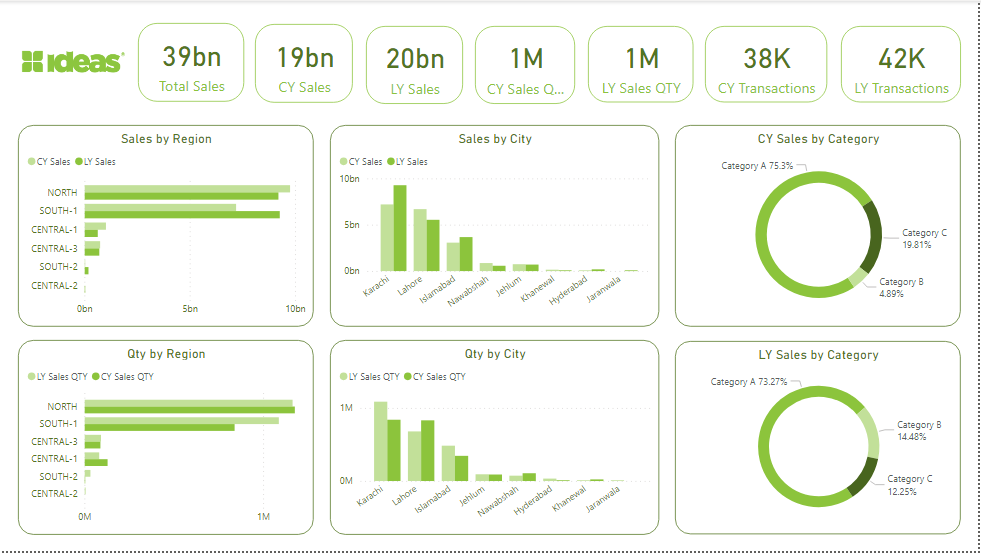

This screenshot's page, from the dashboard's own definition file:
{"tool":"powerbi","page":{"name":"Report_Page_1","canvas":[1280,720],"ordinal":0},"visuals":[{"type":"card","fields":{"Values":["Sales Data.CY Sales"]},"box":[334.5,30.3,128,103.2],"z":0},{"type":"card","fields":{"Values":["Sales Data.LY Sales"]},"box":[479,33,126.6,101.8],"z":1000},{"type":"clusteredBarChart","title":"Sales by Region","fields":{"Category":["Store.REGION"],"Y":["Sales Data.CY Sales","Sales Data.LY Sales"]},"box":[23.4,162.4,386.8,264.3],"z":2000},{"type":"card","fields":{"Values":["Sum(Sales Data.Sales Value CY)"]},"box":[180.3,28.9,139,103.2],"z":3000},{"type":"clusteredColumnChart","title":"Sales by City","fields":{"Category":["Store.CITY"],"Y":["Sales Data.CY Sales","Sales Data.LY Sales"]},"box":[432.2,162.4,430.8,264.3],"z":4000},{"type":"card","fields":{"Values":["Sales Data.CY Sales QTY"]},"box":[622.1,33,130.8,101.8],"z":5000},{"type":"card","fields":{"Values":["Sales Data.LY Sales QTY"]},"box":[769.4,33,137.6,100.5],"z":6000},{"type":"clusteredBarChart","title":"Qty by Region","fields":{"Category":["Store.REGION"],"Y":["Sales Data.LY Sales QTY","Sales Data.CY Sales QTY"]},"box":[23.4,443.2,386.8,254.6],"z":7000},{"type":"clusteredColumnChart","title":"Qty by City","fields":{"Category":["Store.CITY"],"Y":["Sales Data.LY Sales QTY","Sales Data.CY Sales QTY"]},"box":[432.2,443.2,430.8,254.6],"z":8000},{"type":"donutChart","fields":{"Category":["Category.Category"],"Y":["Sales Data.CY Sales"]},"box":[883.6,162.4,374.4,264.3],"z":9000},{"type":"donutChart","fields":{"Category":["Category.Category"],"Y":["Sales Data.LY Sales"]},"box":[883.6,444.6,374.4,253.2],"z":10000},{"type":"image","box":[23.4,50.9,144.5,56.4],"z":11000},{"type":"card","fields":{"Values":["Sales Data.CY Transactions"]},"box":[923.5,33,159.7,100.5],"z":11001},{"type":"card","fields":{"Values":["Sales Data.LY Transactions"]},"box":[1101.1,33,156.9,100.5],"z":11002}]}

Visuals, with their boxes in screenshot pixels (x1, y1, x2, y2), scaled from the page's 1280x720 canvas onto the 981x553 screenshot:
card - Sales Data.CY Sales: l=256, t=23, r=354, b=103
card - Sales Data.LY Sales: l=367, t=25, r=464, b=104
"Sales by Region" clusteredBarChart: l=18, t=125, r=314, b=328
card - Sum(Sales Data.Sales Value CY): l=138, t=22, r=245, b=101
"Sales by City" clusteredColumnChart: l=331, t=125, r=661, b=328
card - Sales Data.CY Sales QTY: l=477, t=25, r=577, b=104
card - Sales Data.LY Sales QTY: l=590, t=25, r=695, b=103
"Qty by Region" clusteredBarChart: l=18, t=340, r=314, b=536
"Qty by City" clusteredColumnChart: l=331, t=340, r=661, b=536
donutChart - Category.Category x Sales Data.CY Sales: l=677, t=125, r=964, b=328
donutChart - Category.Category x Sales Data.LY Sales: l=677, t=341, r=964, b=536
image: l=18, t=39, r=129, b=82
card - Sales Data.CY Transactions: l=708, t=25, r=830, b=103
card - Sales Data.LY Transactions: l=844, t=25, r=964, b=103
